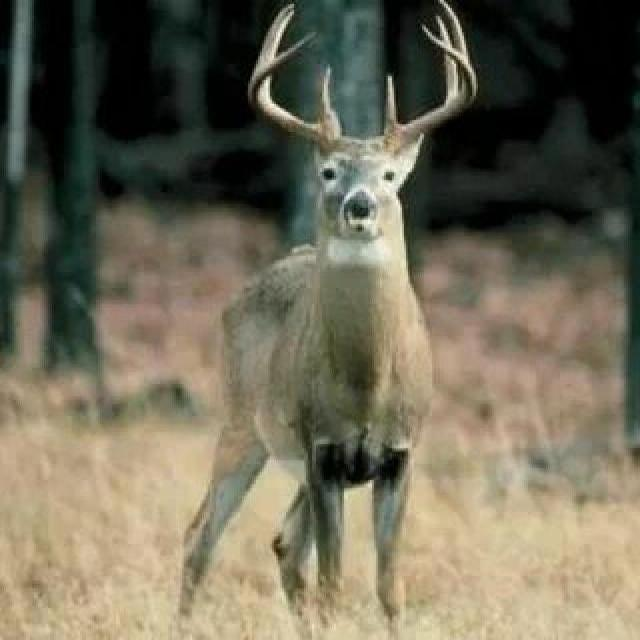deer: (121, 10, 503, 525)
